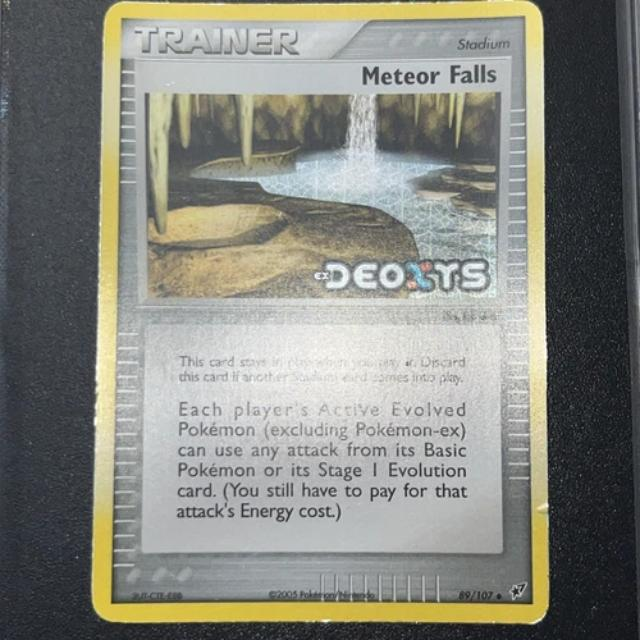Card: (86, 0, 557, 631)
Name: (349, 59, 506, 93)
